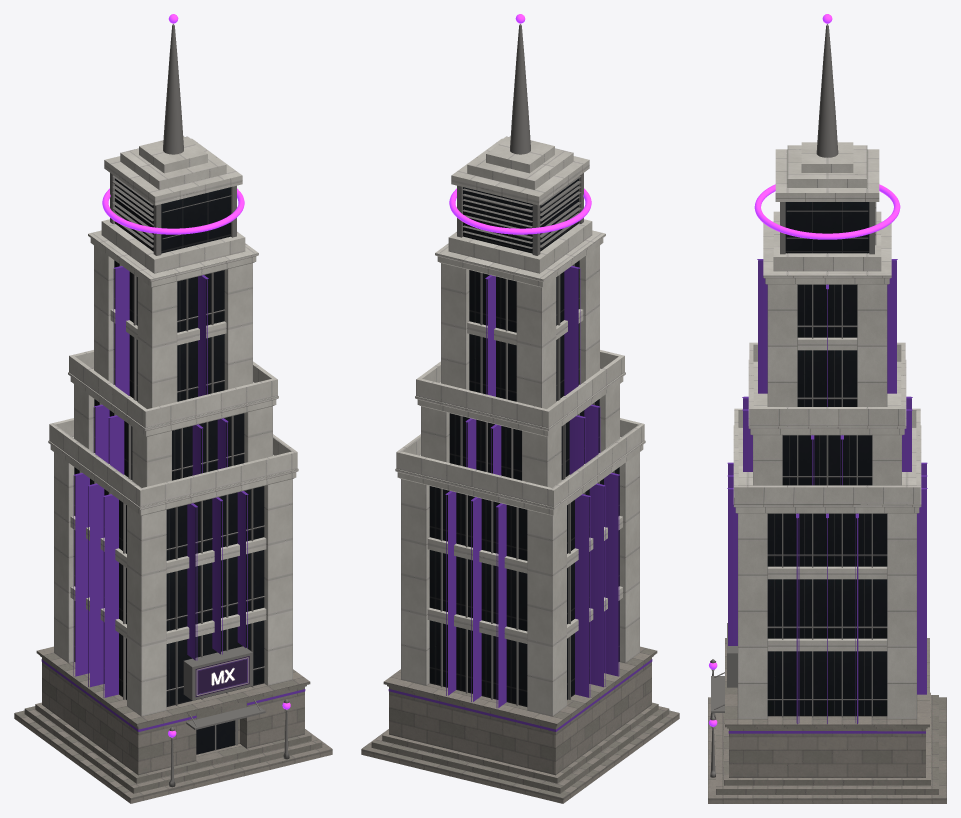
File: s19-moscone-x.glb
3 renders of one model, left to right at view 1: azimuth 30°, elevation 25°; view 2: azimuth 150°, elevation 25°; view 3: azimuth 270°, elevation 25°, orthographic. The views are drawn at different scales.
Parts seen in each view (by area): view 1: Landmark · Moscone.X (Series 19); view 2: Landmark · Moscone.X (Series 19); view 3: Landmark · Moscone.X (Series 19).
Part boxes in pixels (x1,y1,x2,y2): Landmark · Moscone.X (Series 19): (14, 14, 332, 803); Landmark · Moscone.X (Series 19): (361, 14, 679, 803); Landmark · Moscone.X (Series 19): (708, 14, 946, 803).
Bounding box in the file's own units: 12 × 41 × 12.
7 materials, 4 textured.
